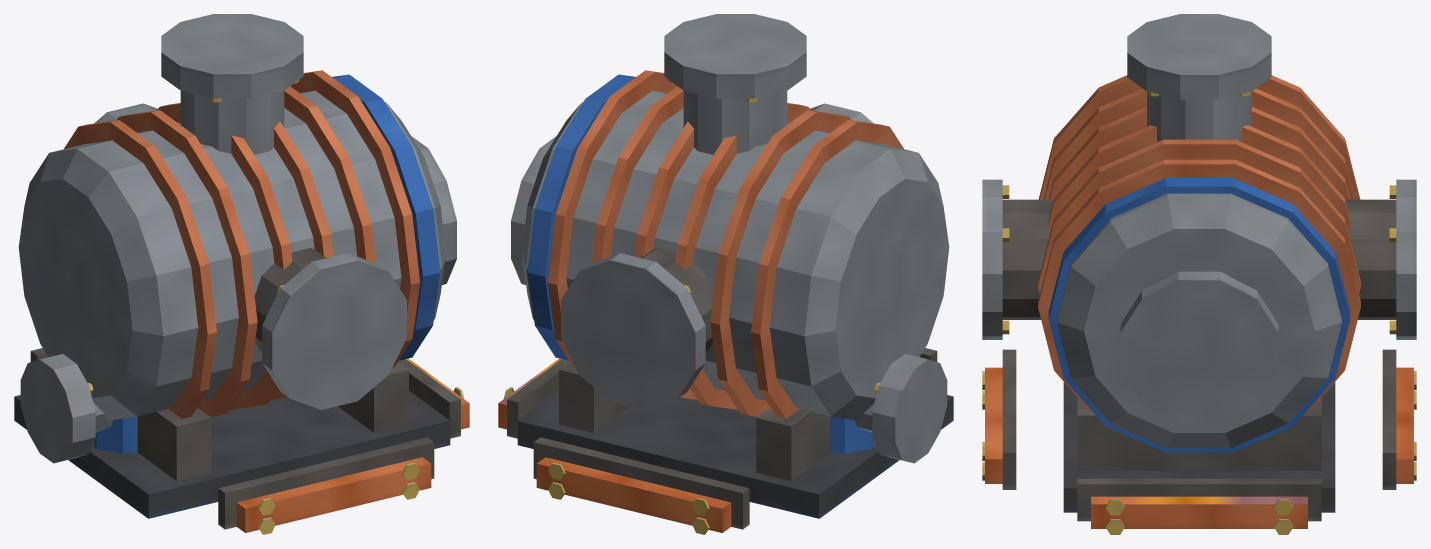
Rendered from condenser200v.obj.
The picture shows the model from 3 angles, left to right: view 1: azimuth 30°, elevation 25°; view 2: azimuth 150°, elevation 25°; view 3: azimuth 270°, elevation 25°; orthographic projection.
Parts seen in each view (by area): view 1: main, duct_right, duct_back; view 2: main, duct_left, duct_back; view 3: main, duct_back, duct_right, duct_left.
Boxes of the visible parts, left/top/right/bottom form: main: left=14, top=14, right=469, bottom=534; duct_right: left=254, top=248, right=406, bottom=409; duct_back: left=411, top=136, right=456, bottom=284; main: left=498, top=14, right=953, bottom=534; duct_left: left=561, top=248, right=713, bottom=409; duct_back: left=511, top=136, right=556, bottom=284; main: left=982, top=14, right=1416, bottom=534; duct_back: left=1120, top=271, right=1278, bottom=422; duct_right: left=982, top=179, right=1053, bottom=339; duct_left: left=1345, top=179, right=1416, bottom=339.
Size of the model in its own units: 1 by 1.01 by 1.
Materials: 1 (1 with a texture image).
